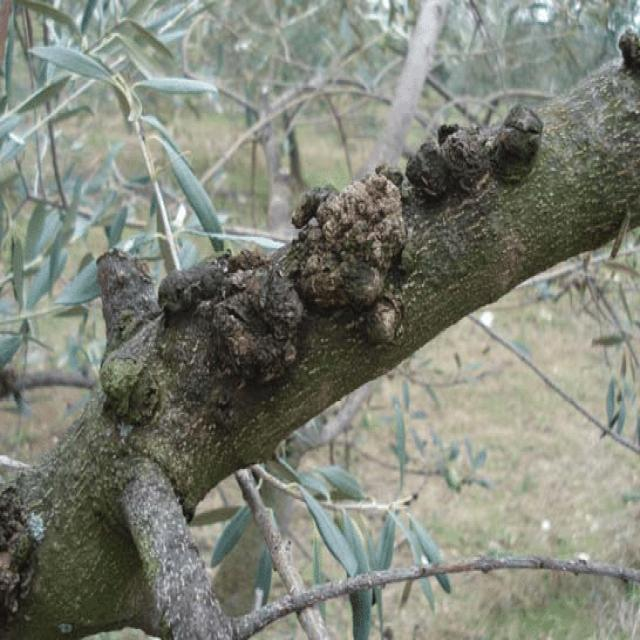Tuberculosis: (284, 171, 406, 342), (158, 253, 304, 387), (407, 124, 496, 202), (0, 477, 45, 621), (489, 104, 543, 184)
